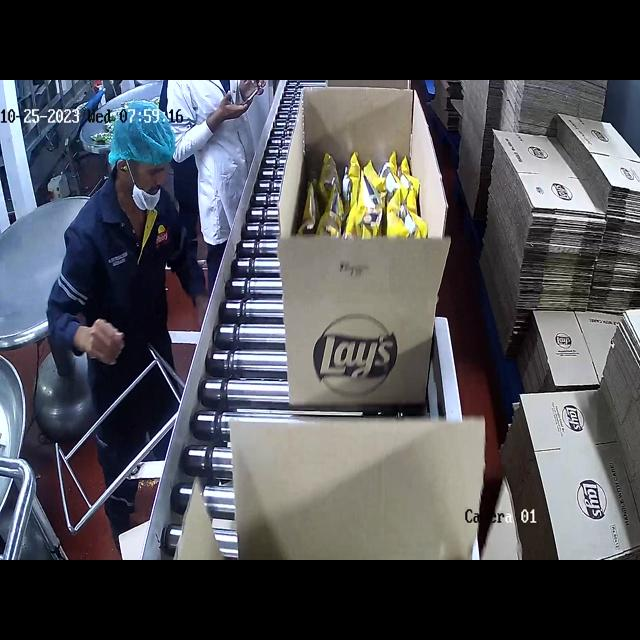salted: (294, 162, 424, 229)
